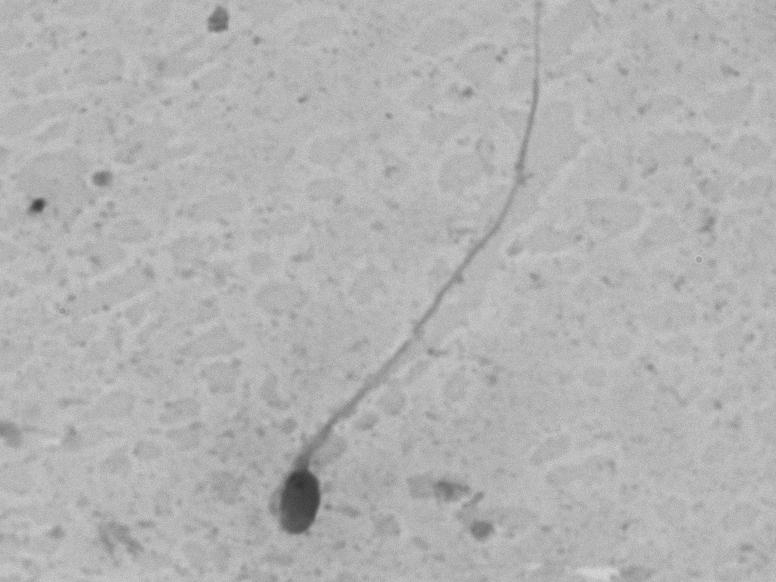Abnormal: (237, 34, 598, 562)
